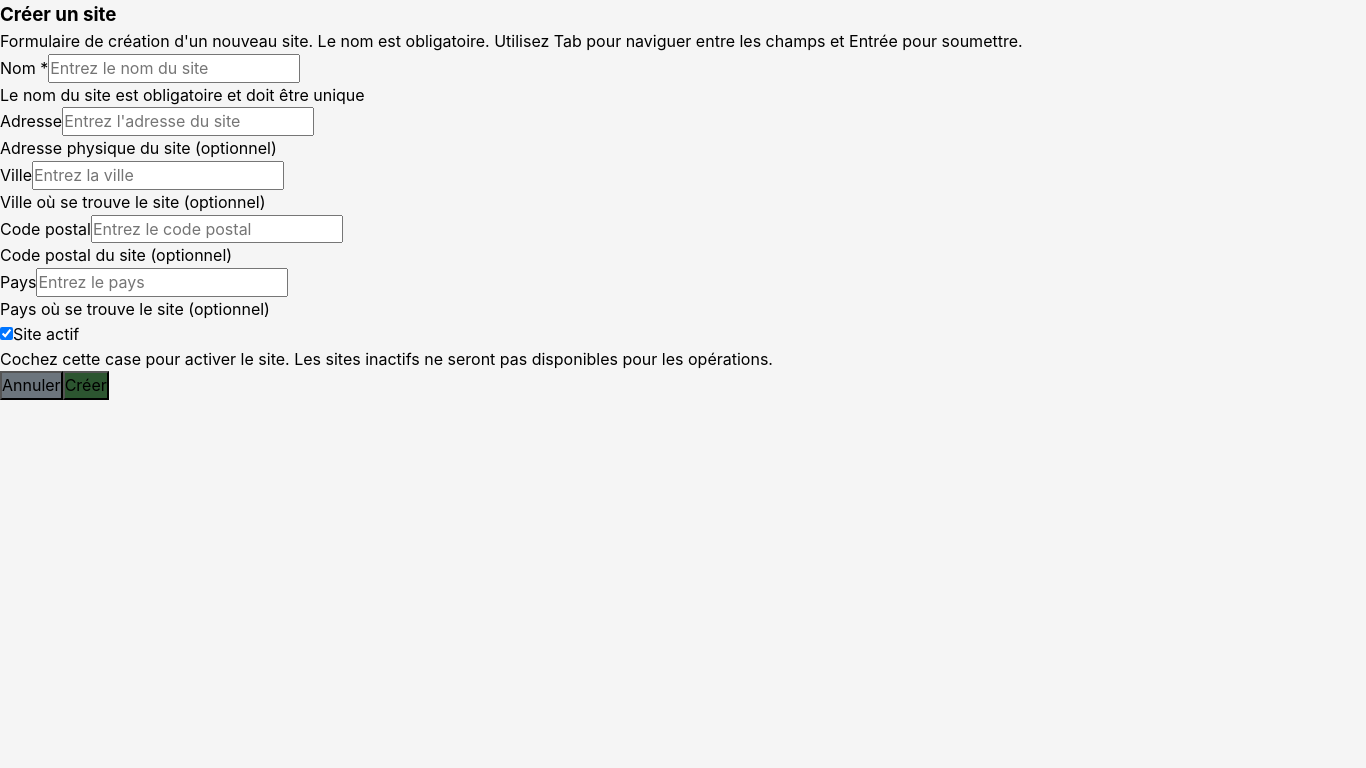
SiteForm Component › Error Handling › should display generic error message for unknown errors
Fill and submit form
Type "Test Site" into the field labelled "Nom *" at (174, 68), box [48,54,300,83]
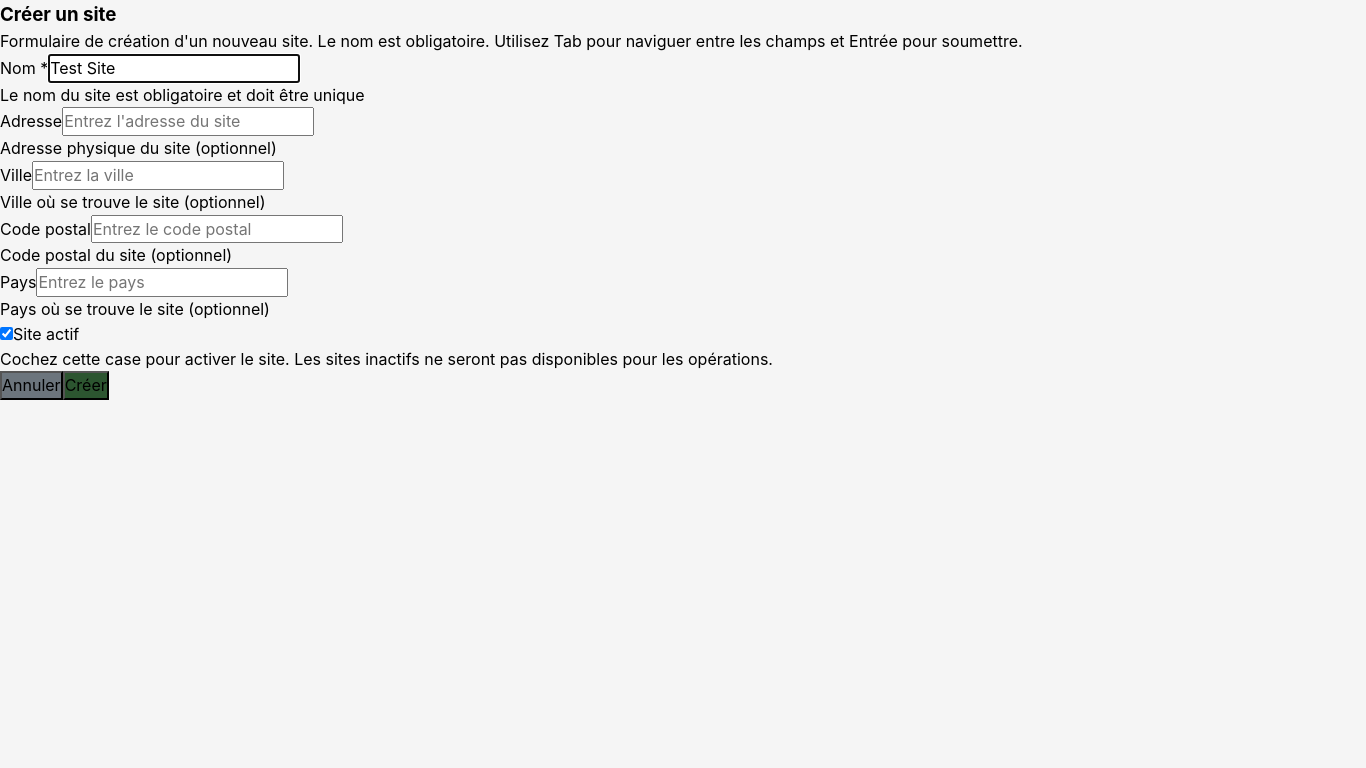
Click the button "Créer" at (86, 386), box [63,371,109,400]
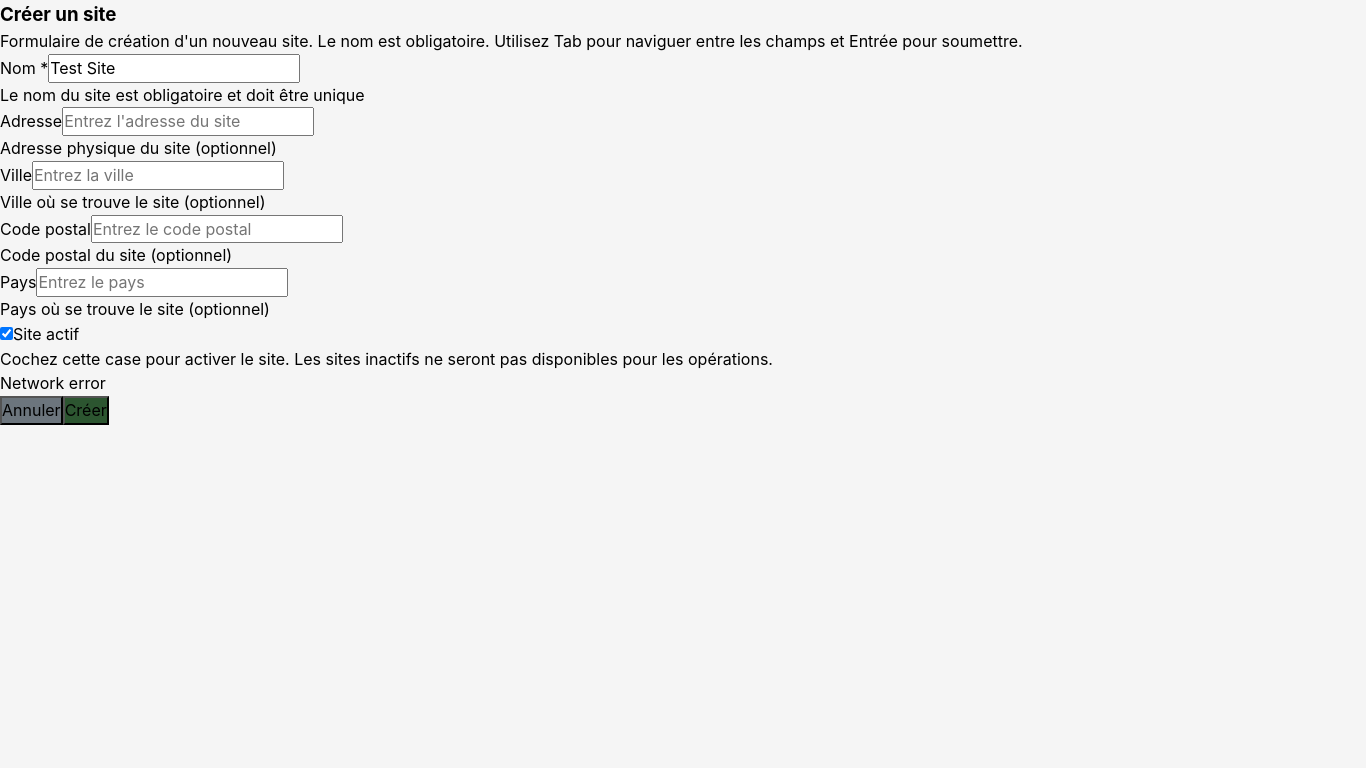
Result: the text "Network error" is shown at [0,373,106,393]
